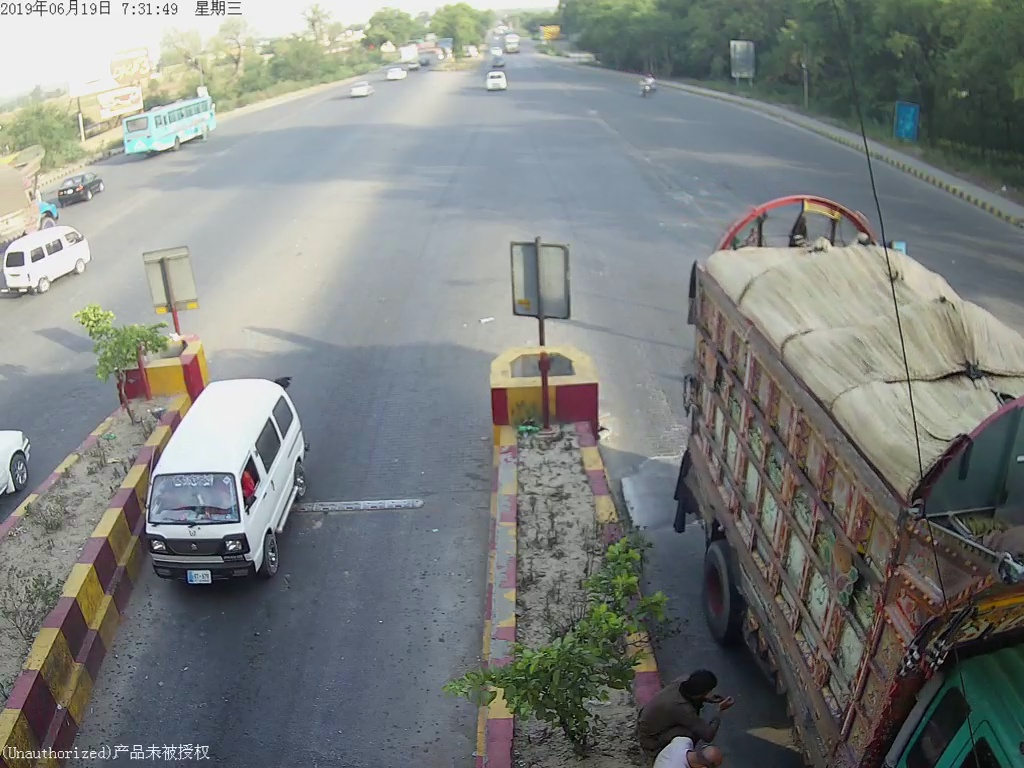Cat-1: (141, 381, 321, 588)
